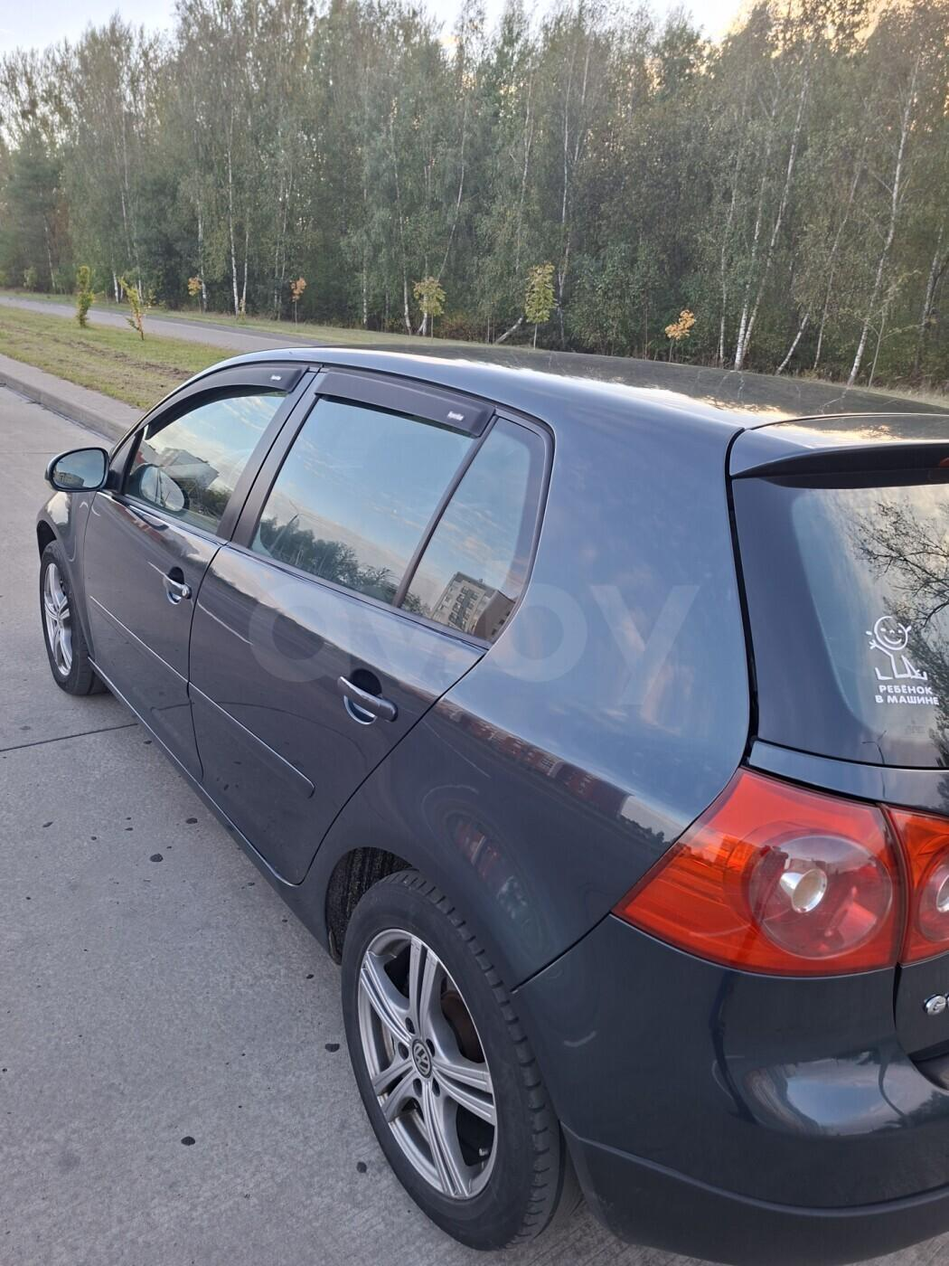Golf_2003-2009: (34, 340, 949, 1262)
